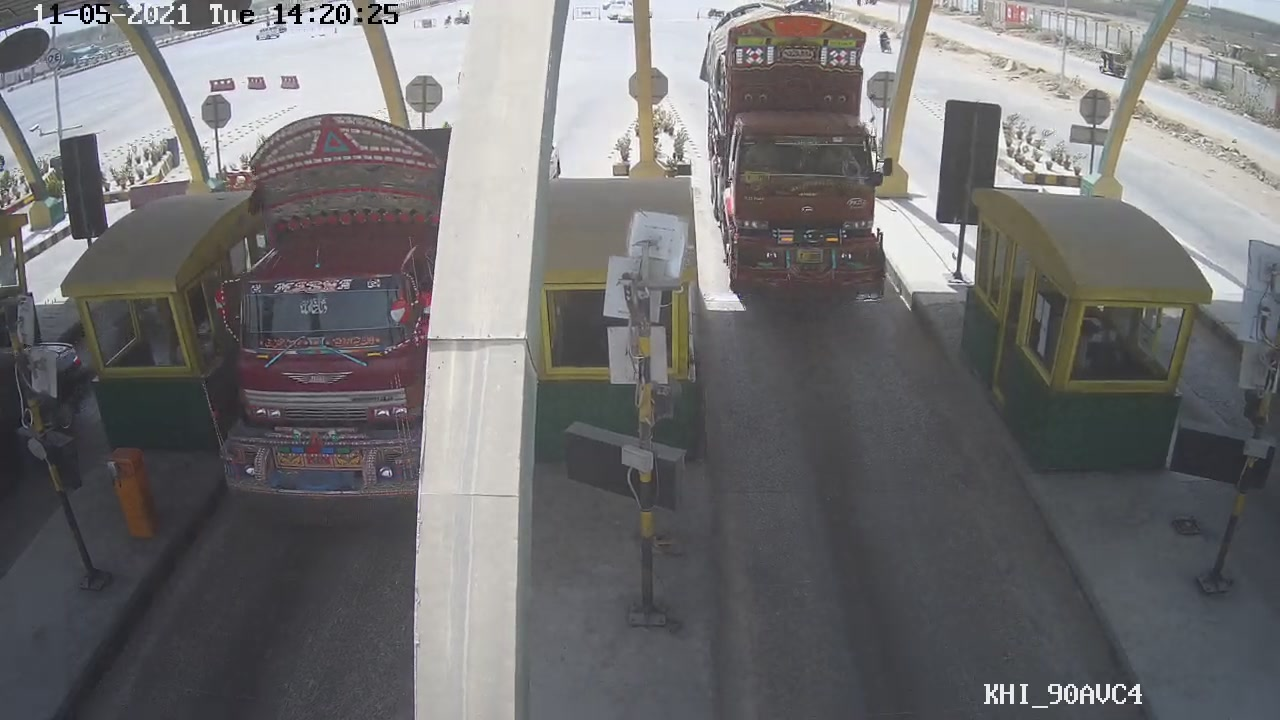F5: (696, 24, 888, 311)
